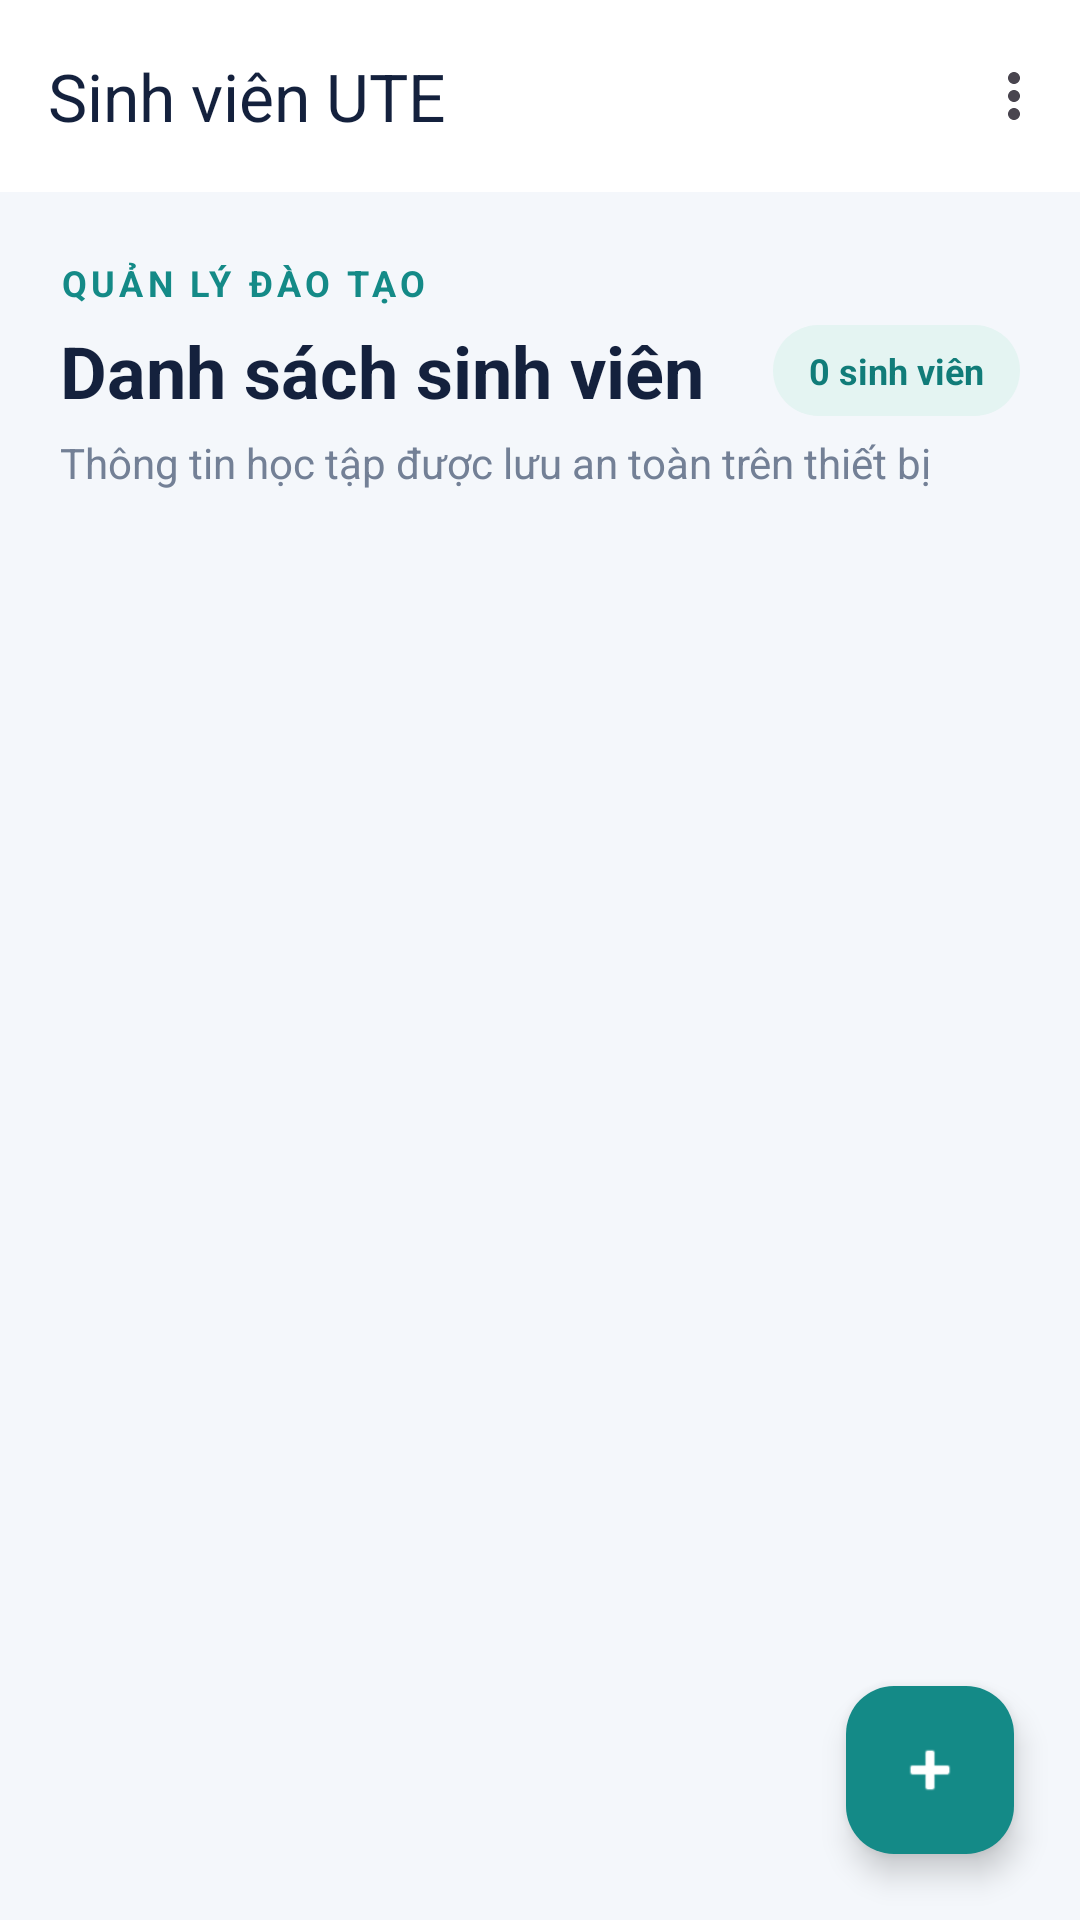

Where to tap for icons on this 1080w x 1920h app screen, as (x,y):
Thêm sinh viên: (930,1770)
